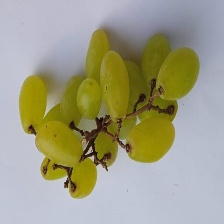grapes: (11, 16, 173, 182)
